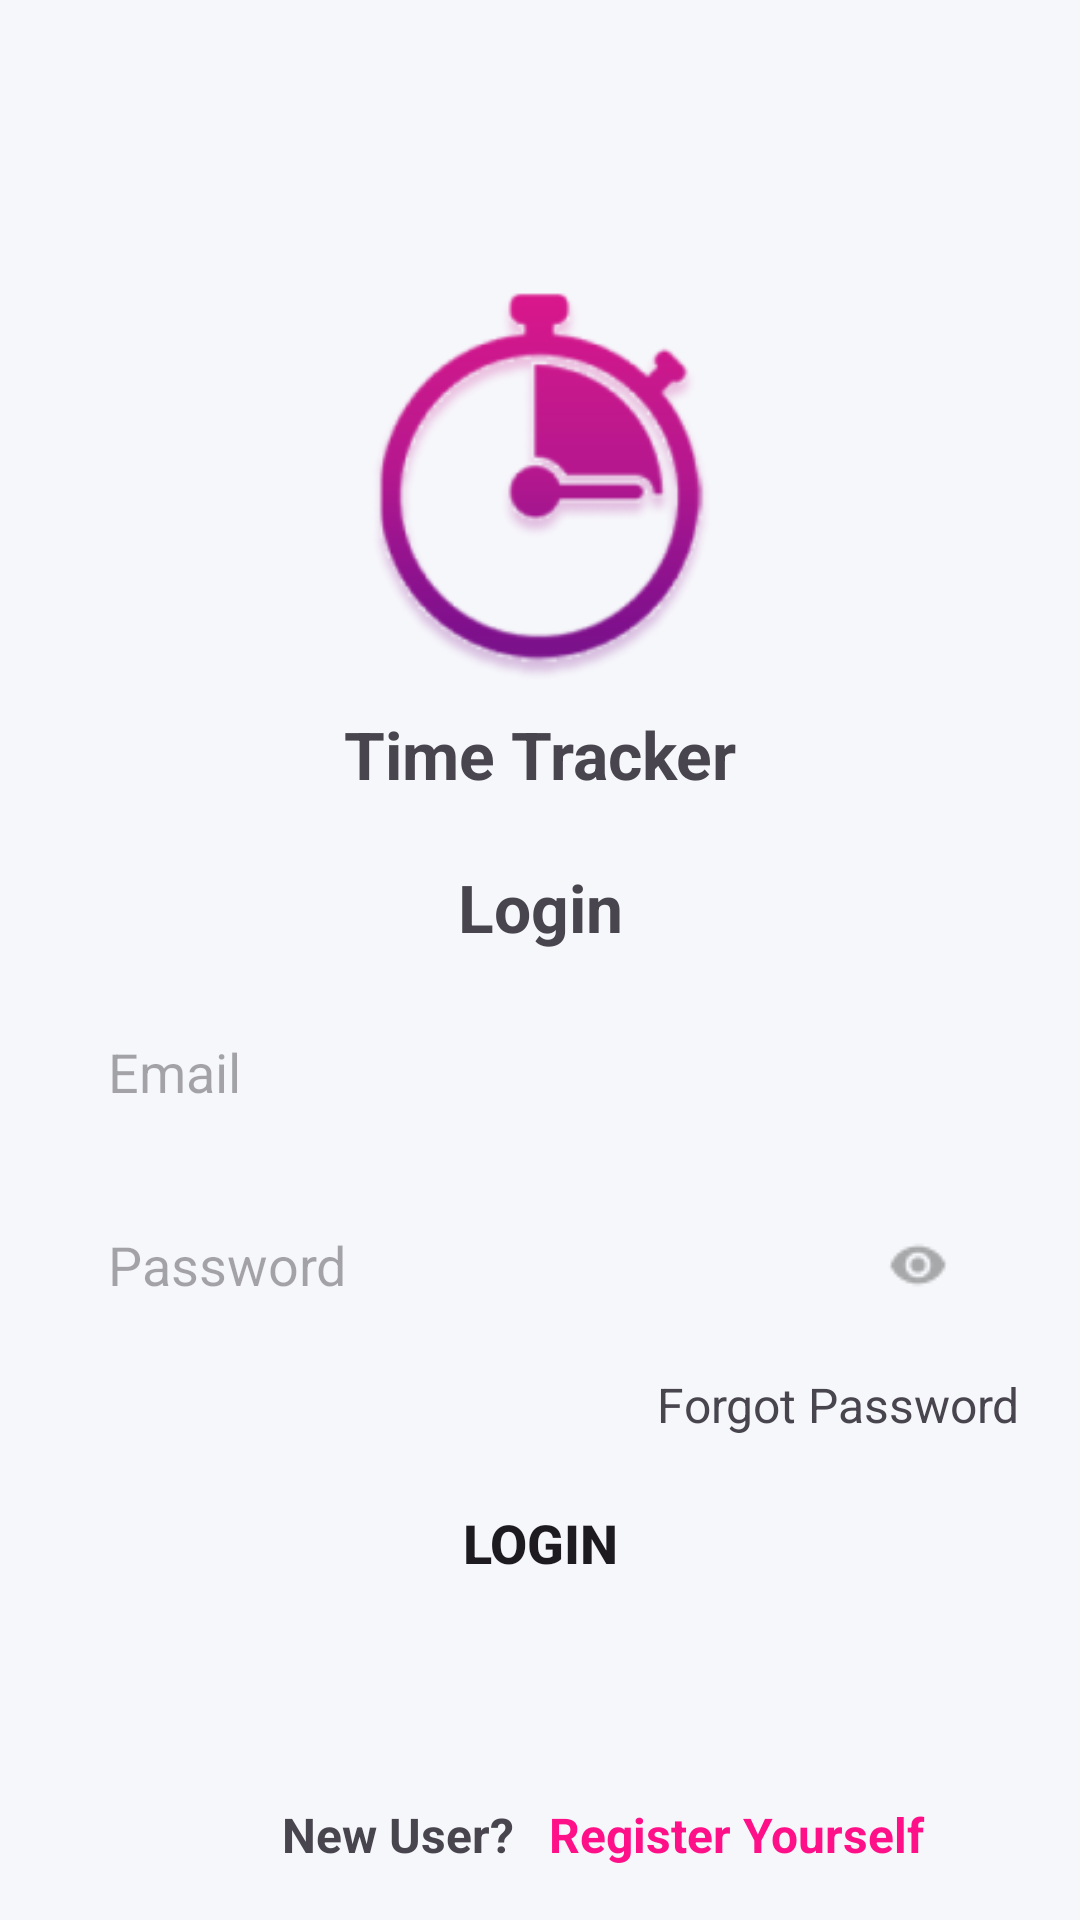

Icons on this 1080px×1920px Android screen, each with the point to tap as [x,y]:
pass eye: [918,1265]
